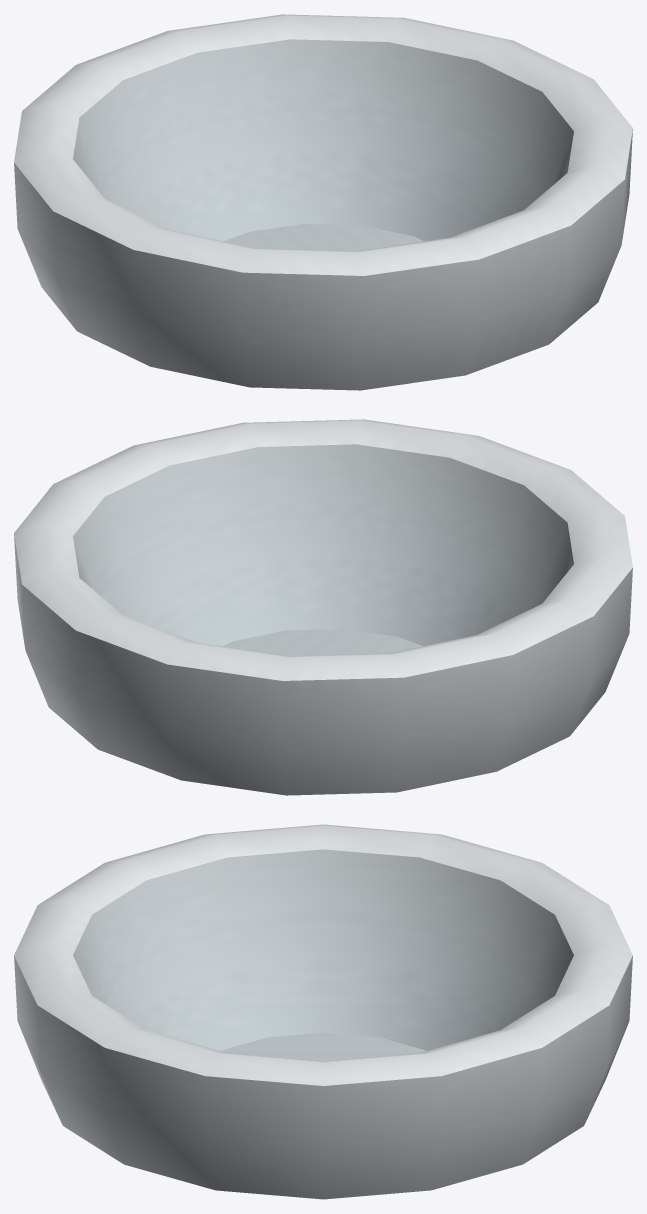
Rendered from bowl.gltf.
The picture shows the model from 3 angles, top to bottom: view 1: azimuth 30°, elevation 25°; view 2: azimuth 150°, elevation 25°; view 3: azimuth 270°, elevation 25°; orthographic projection.
Parts seen in each view (by area): view 1: bowl; view 2: bowl; view 3: bowl.
Boxes of the visible parts, x1,y1,x2,y2 form: bowl: (14, 14, 632, 390); bowl: (14, 419, 632, 795); bowl: (14, 824, 632, 1199).
Bounding box in the file's own units: 0.95 × 0.3 × 0.95.
1 material, 1 textured.
